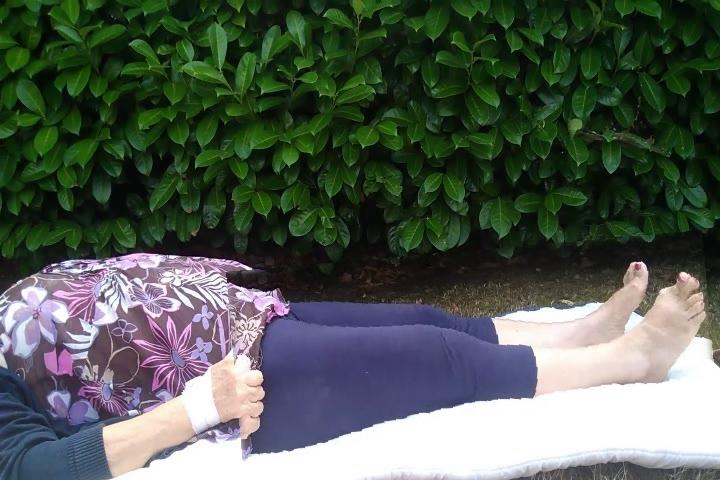lower_body: (231, 241, 717, 454)
